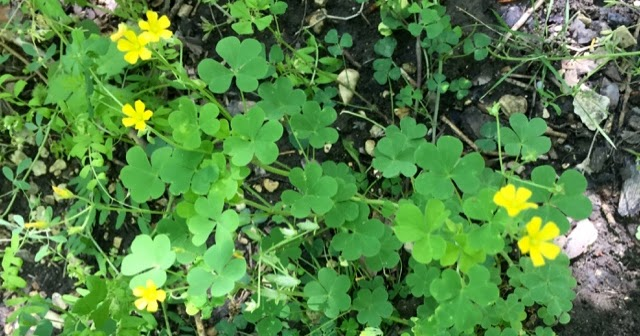clover: (412, 133, 485, 204), (429, 264, 499, 331), (195, 34, 269, 95), (390, 198, 453, 265), (221, 105, 284, 167), (184, 241, 248, 298), (281, 160, 339, 219), (167, 95, 220, 149), (495, 110, 551, 161), (304, 264, 352, 320), (288, 99, 339, 149), (350, 284, 394, 329)
yellow wood sorrel: (515, 216, 562, 268), (492, 183, 539, 219), (116, 30, 155, 64), (130, 278, 165, 314), (137, 10, 173, 43), (121, 99, 154, 133)
